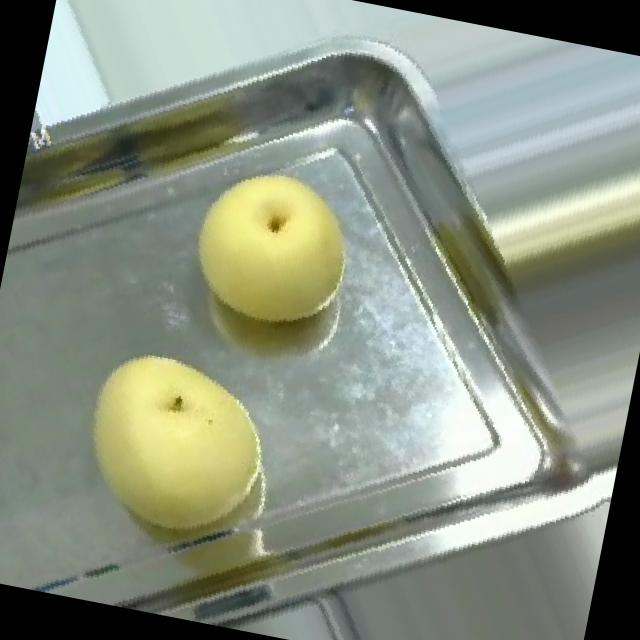Fruit: (34, 311, 312, 583), (164, 142, 380, 352)
